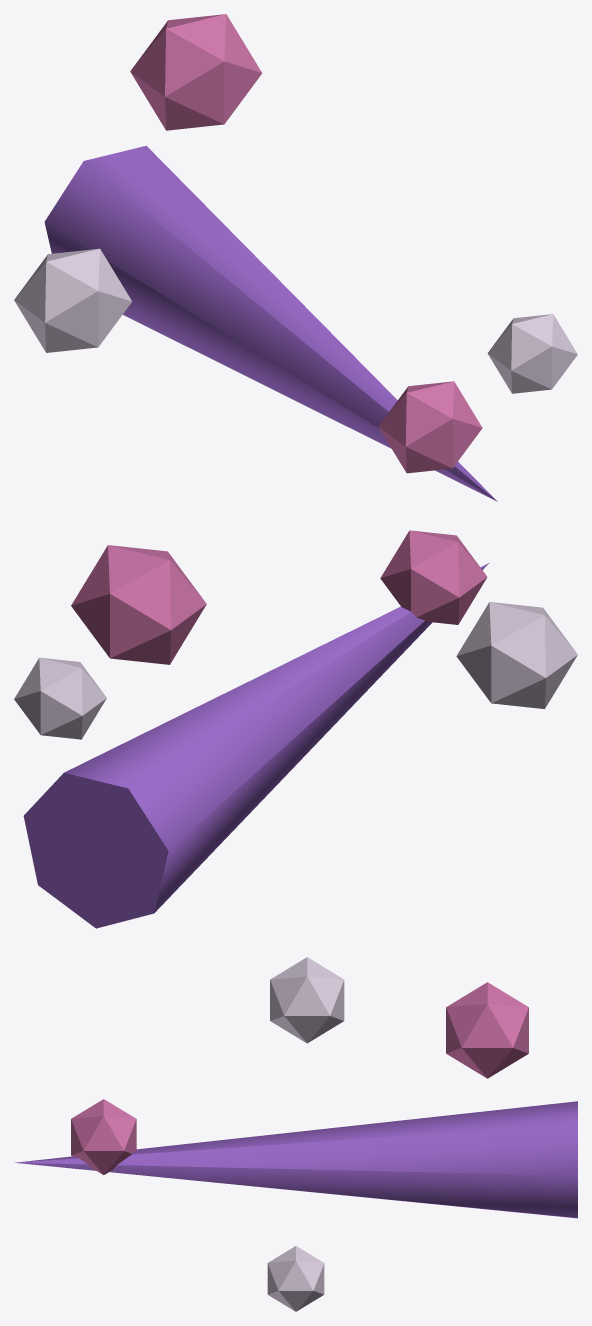
File: bow.glb
The picture shows the model from 3 angles, top to bottom: view 1: azimuth 30°, elevation 25°; view 2: azimuth 150°, elevation 25°; view 3: azimuth 270°, elevation 25°; orthographic projection. The views are drawn at different scales.
Parts seen in each view (by area): view 1: bow_trail, bow_spark_3, bow_spark_2, bow_spark_1, bow_spark_0; view 2: bow_trail, bow_spark_3, bow_spark_2, bow_spark_1, bow_spark_0; view 3: bow_trail, bow_spark_3, bow_spark_2, bow_spark_1, bow_spark_0.
Boxes of the visible parts, box(x1,y1,x2,y2) form: bow_trail: box(44, 145, 497, 501); bow_spark_3: box(130, 14, 262, 130); bow_spark_2: box(14, 248, 131, 352); bow_spark_1: box(378, 381, 482, 473); bow_spark_0: box(487, 314, 577, 393); bow_trail: box(23, 563, 488, 928); bow_spark_3: box(71, 545, 206, 664); bow_spark_2: box(456, 602, 577, 708); bow_spark_1: box(380, 530, 487, 624); bow_spark_0: box(14, 657, 106, 739); bow_trail: box(15, 1101, 577, 1218); bow_spark_3: box(446, 982, 528, 1078); bow_spark_2: box(270, 957, 344, 1043); bow_spark_1: box(71, 1099, 136, 1174); bow_spark_0: box(267, 1246, 324, 1311).
Size of what is drawn, in the model's own units: 1.75 by 1.02 by 2.2.
